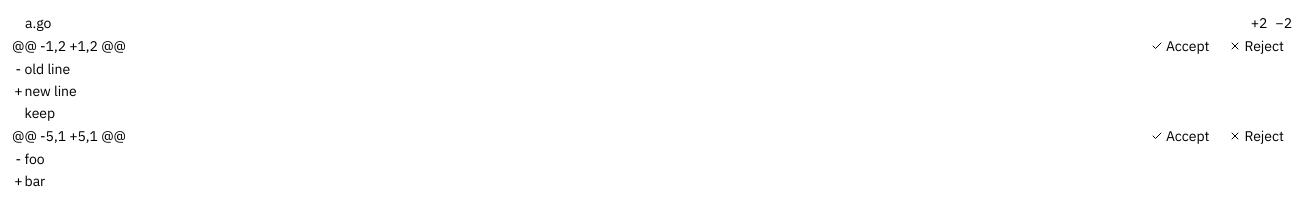
DiffView › disables a hunk's buttons after a decision
Click the button with test id "hunk-accept" in the row of "@@ -1,2 +1,2 @@". click: (1180, 46)
box: [1143,34,1217,58]
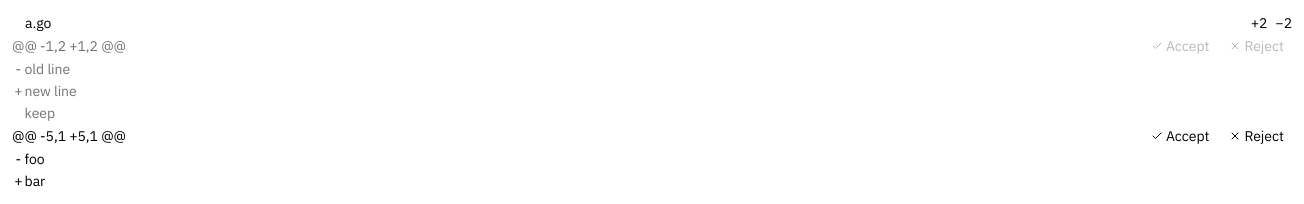
Result: the button with test id "hunk-accept" in the row of "@@ -1,2 +1,2 @@" is disabled at [1143,34,1217,58]
